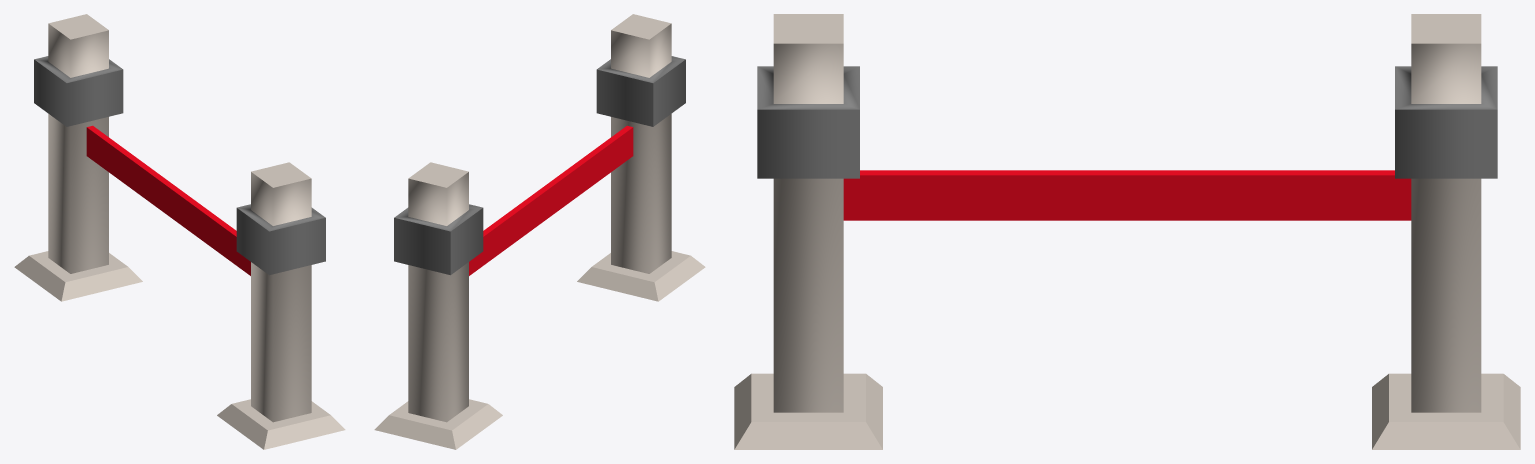
The model's file is SM_Limiting_Tapes1.fbx.
The picture shows the model from 3 angles, left to right: view 1: azimuth 30°, elevation 25°; view 2: azimuth 150°, elevation 25°; view 3: azimuth 270°, elevation 25°; orthographic projection. The views are drawn at different scales.
Visible parts, largest first — view 1: SM_Limiting_Tapes1; view 2: SM_Limiting_Tapes1; view 3: SM_Limiting_Tapes1.
Boxes of the visible parts, box(x1,y1,x2,y2) form: SM_Limiting_Tapes1: box(14, 14, 345, 449); SM_Limiting_Tapes1: box(374, 14, 705, 449); SM_Limiting_Tapes1: box(734, 14, 1520, 449).
Bounding box in the file's own units: 31.85 × 92.07 × 168.
